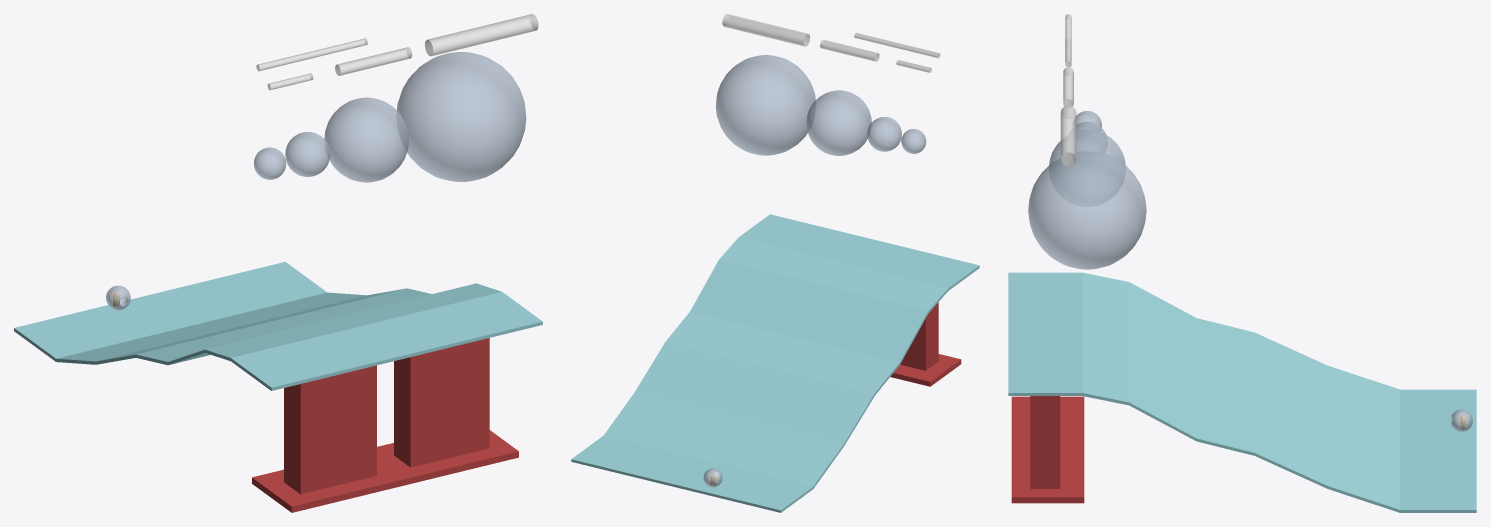
File: avalance.fbx
3 renders of one model, left to right at view 1: azimuth 30°, elevation 25°; view 2: azimuth 150°, elevation 25°; view 3: azimuth 270°, elevation 25°, orthographic. The views are drawn at different scales.
Visible parts, largest first — view 1: mountain, Sphere.004, Sphere.001, Cylinder.001, Sphere.003, Cylinder, Cylinder.003, Sphere.005; view 2: mountain, Sphere.004, Sphere.001, Cylinder.001, Sphere.003, Cylinder, Cylinder.003, Sphere.005; view 3: mountain, Sphere.004, Sphere.001, Cylinder.001, Sphere.003.
Boxes of the visible parts, bbox=[...] form: mountain: bbox=[14, 261, 542, 512]; Sphere.004: bbox=[397, 52, 526, 181]; Sphere.001: bbox=[324, 97, 408, 182]; Cylinder.001: bbox=[425, 14, 538, 56]; Sphere.003: bbox=[285, 132, 330, 176]; Cylinder: bbox=[335, 47, 412, 75]; Cylinder.003: bbox=[256, 38, 367, 71]; Sphere.005: bbox=[254, 147, 286, 179]; mountain: bbox=[571, 214, 979, 512]; Sphere.004: bbox=[715, 55, 815, 155]; Sphere.001: bbox=[806, 90, 871, 155]; Cylinder.001: bbox=[722, 14, 810, 46]; Sphere.003: bbox=[867, 117, 901, 151]; Cylinder: bbox=[820, 39, 879, 61]; Cylinder.003: bbox=[854, 32, 940, 58]; Sphere.005: bbox=[901, 129, 926, 153]; mountain: bbox=[1008, 272, 1476, 512]; Sphere.004: bbox=[1028, 151, 1146, 269]; Sphere.001: bbox=[1049, 130, 1125, 206]; Cylinder.001: bbox=[1060, 105, 1076, 166]; Sphere.003: bbox=[1069, 122, 1107, 152].
Size of the model in its own units: 10971 by 15092 by 16538.
